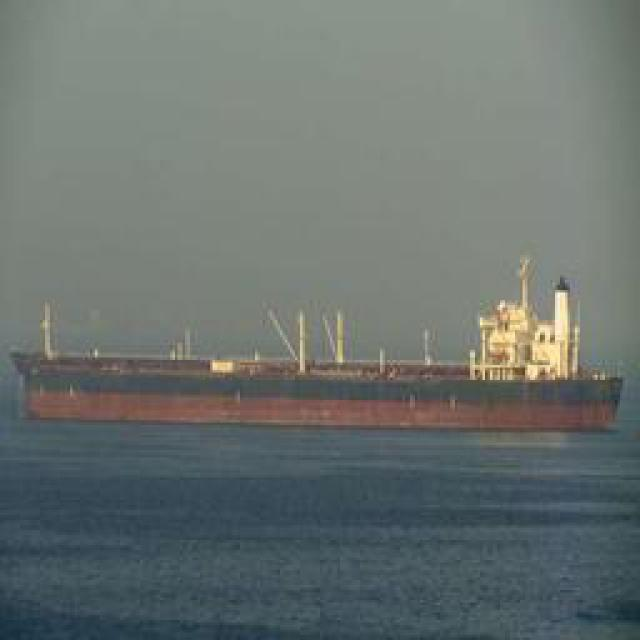Ship: (15, 355, 615, 433)
